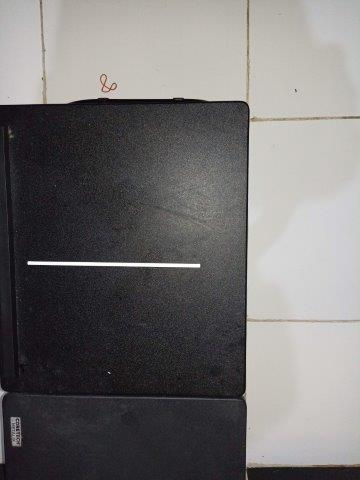karet: (99, 73, 118, 93)
sedotan: (27, 260, 200, 268)
